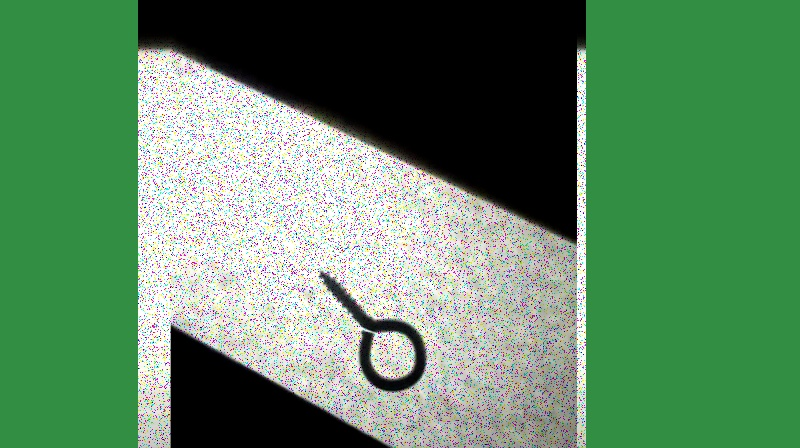O001: (317, 267, 428, 395)
